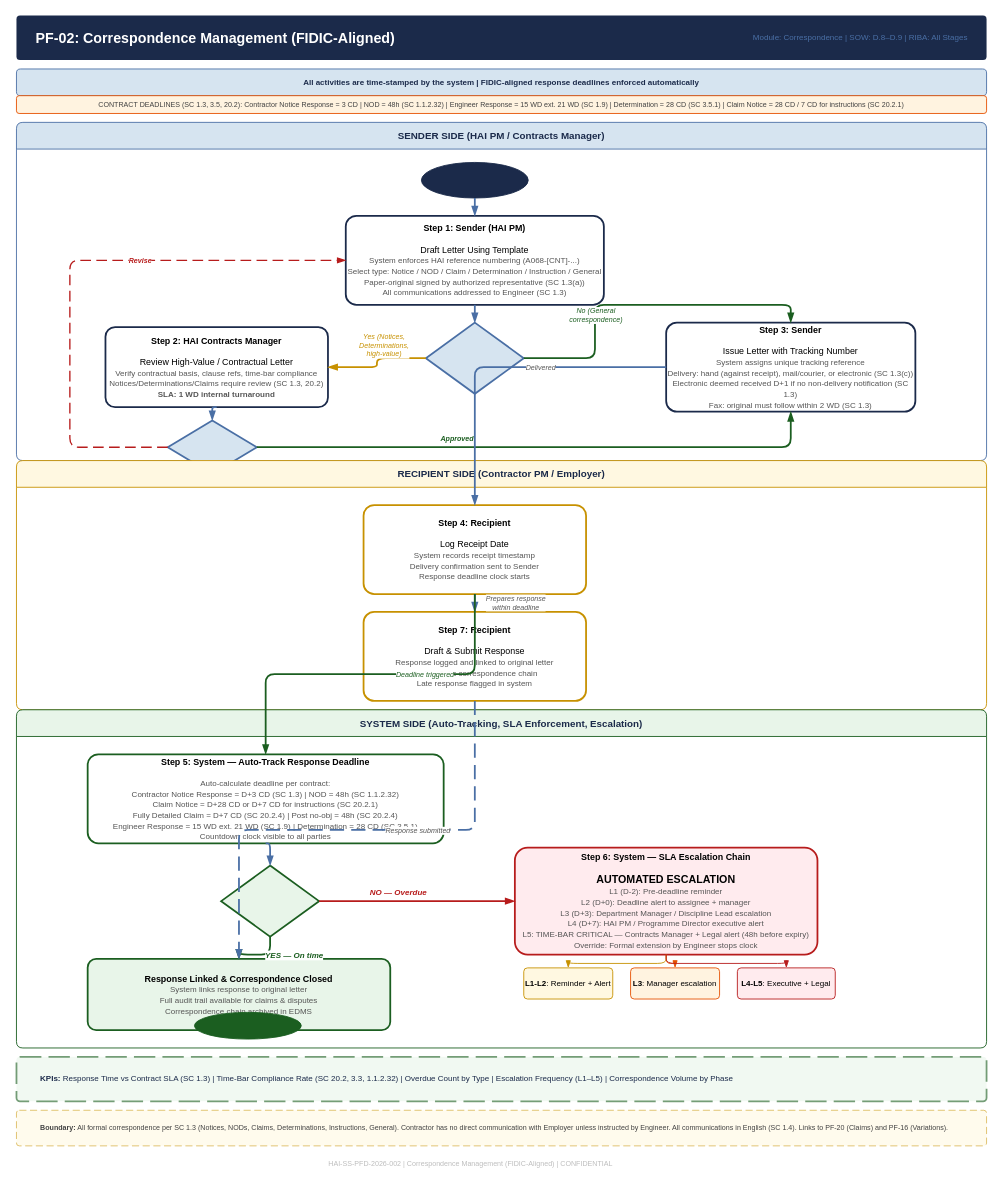
Some shapes in this 1002 by 1187 pixel diagram are drawn without their labels. Each missing label, with the centre of its shape:
"Approved?" goes at point 211,446.
"END" goes at point 247,1025.
"Response Received?" goes at point 270,900.
"Review Required?" goes at point 474,357.
"START" goes at point 474,180.
